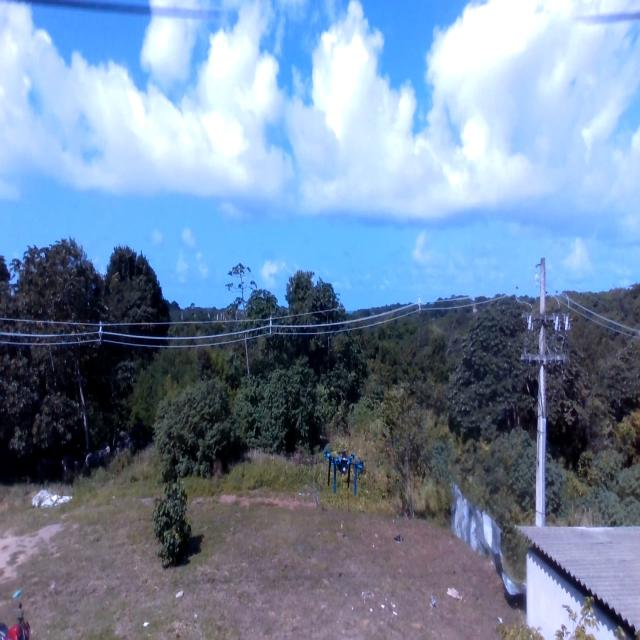-uav-: (324, 446, 368, 502)
